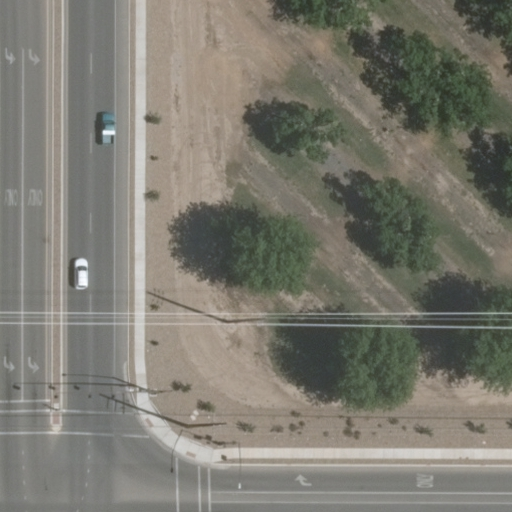DT: (175, 409, 233, 438), (216, 308, 277, 333)
